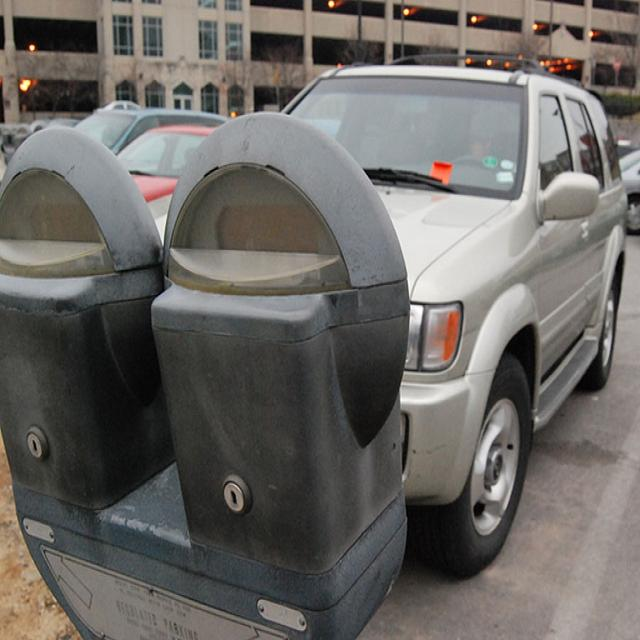Vehicle: (230, 69, 625, 584), (117, 119, 217, 220), (63, 102, 232, 154), (621, 148, 640, 233)
